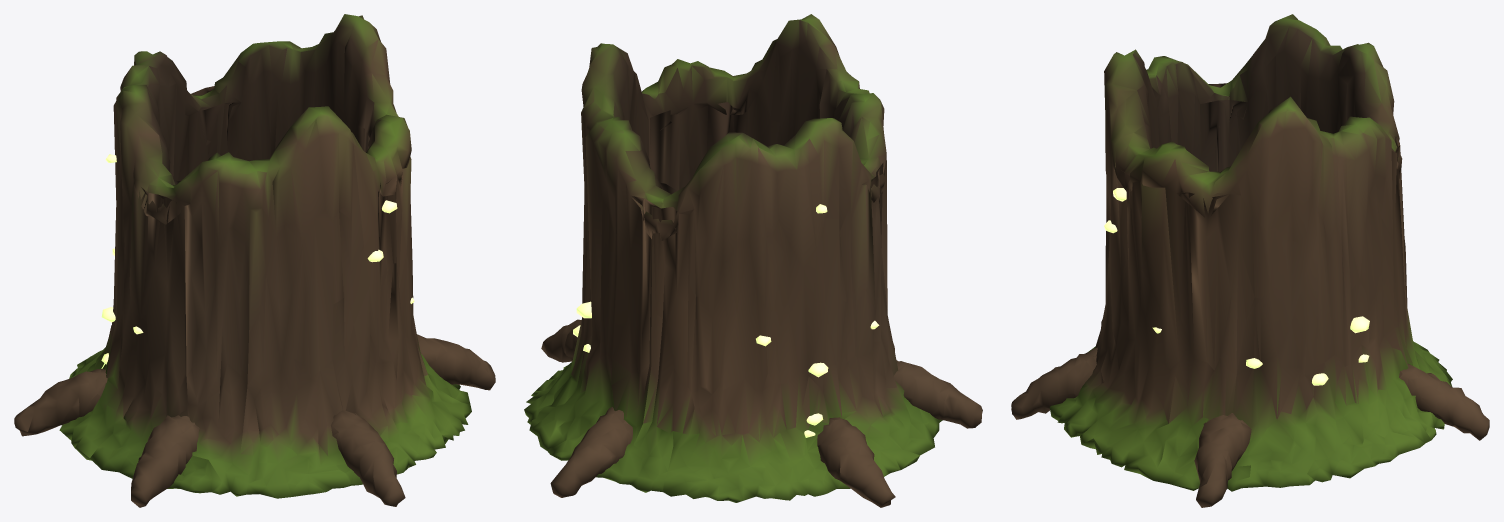
The model's file is mire_rotten_stump_lod1.glb.
3 renders of one model, left to right at view 1: azimuth 30°, elevation 25°; view 2: azimuth 150°, elevation 25°; view 3: azimuth 270°, elevation 25°, orthographic. The views are drawn at different scales.
Visible parts, largest first — view 1: mire_rotten_stump.001; view 2: mire_rotten_stump.001; view 3: mire_rotten_stump.001.
Part boxes in pixels (x1,y1,x2,y2): mire_rotten_stump.001: (14, 14, 495, 507); mire_rotten_stump.001: (524, 14, 982, 507); mire_rotten_stump.001: (1011, 14, 1489, 507).
Size of the model in its own units: 19.22 by 16.37 by 19.43.
